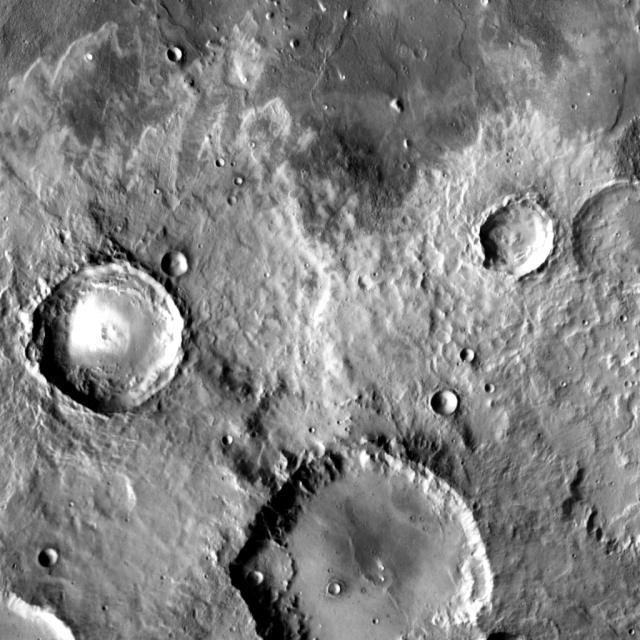crater: (230, 432, 490, 636), (28, 261, 191, 409), (572, 182, 640, 290), (480, 202, 556, 275), (0, 585, 92, 640), (461, 399, 511, 447), (430, 390, 458, 415), (161, 252, 189, 276), (39, 548, 58, 566), (162, 192, 180, 210), (248, 570, 264, 586), (358, 274, 374, 289), (167, 47, 182, 62), (460, 348, 474, 362), (150, 74, 163, 87), (414, 47, 427, 59), (328, 583, 341, 595), (59, 230, 70, 242), (484, 258, 494, 270), (398, 44, 409, 54), (223, 435, 233, 446), (485, 383, 495, 393), (227, 196, 237, 205), (216, 158, 225, 167), (130, 0, 142, 6), (119, 94, 128, 102), (290, 40, 298, 49), (402, 216, 411, 224), (266, 12, 274, 20), (473, 502, 481, 510), (630, 351, 638, 358), (403, 162, 410, 170), (625, 381, 633, 388), (620, 315, 628, 322), (235, 177, 242, 185), (115, 225, 122, 232), (607, 168, 614, 175), (592, 214, 600, 220), (86, 53, 92, 61), (251, 432, 258, 438), (508, 148, 514, 154), (169, 632, 175, 638), (1, 504, 7, 510), (102, 605, 108, 611), (220, 294, 226, 300), (460, 460, 466, 466), (249, 142, 255, 148), (230, 626, 236, 632), (518, 160, 524, 166), (629, 629, 635, 635), (264, 272, 270, 278), (206, 134, 211, 140), (426, 603, 432, 608), (213, 26, 218, 32), (322, 105, 328, 110), (633, 380, 638, 386), (611, 89, 617, 94), (507, 158, 512, 164), (572, 104, 578, 109), (578, 182, 584, 187), (373, 618, 378, 624), (482, 0, 489, 4), (22, 39, 27, 44), (537, 433, 542, 438), (242, 77, 247, 82), (403, 66, 408, 71), (304, 263, 309, 268), (161, 575, 166, 580), (373, 272, 378, 277), (69, 502, 74, 507), (337, 420, 342, 425), (583, 320, 588, 325), (345, 427, 350, 432), (309, 428, 314, 433), (154, 189, 159, 194), (626, 230, 630, 236), (507, 154, 511, 160), (4, 216, 8, 222), (230, 162, 236, 166), (514, 172, 520, 176), (442, 174, 447, 178), (584, 333, 588, 338), (380, 566, 384, 571), (483, 107, 488, 111), (380, 577, 384, 582), (512, 147, 516, 152), (589, 189, 594, 193), (206, 556, 210, 561), (506, 152, 511, 156), (303, 360, 308, 364), (616, 232, 620, 237), (423, 272, 428, 276), (561, 382, 566, 386), (198, 244, 203, 248), (458, 2, 462, 6), (452, 439, 456, 443), (278, 49, 282, 53), (176, 287, 180, 291), (108, 35, 112, 39), (543, 186, 547, 190), (340, 258, 344, 262), (305, 26, 309, 30), (627, 343, 631, 347), (610, 482, 614, 486), (410, 17, 414, 21), (125, 518, 129, 522), (572, 554, 576, 558), (204, 574, 208, 578), (616, 436, 620, 440), (596, 480, 600, 484), (10, 89, 14, 93), (457, 362, 461, 366), (568, 366, 572, 370), (113, 0, 118, 3), (178, 0, 183, 2)
